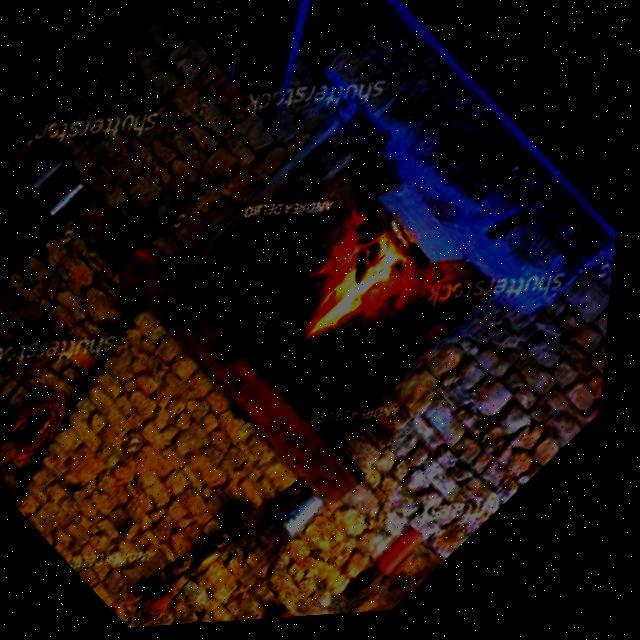Fire: (276, 213, 433, 366)
